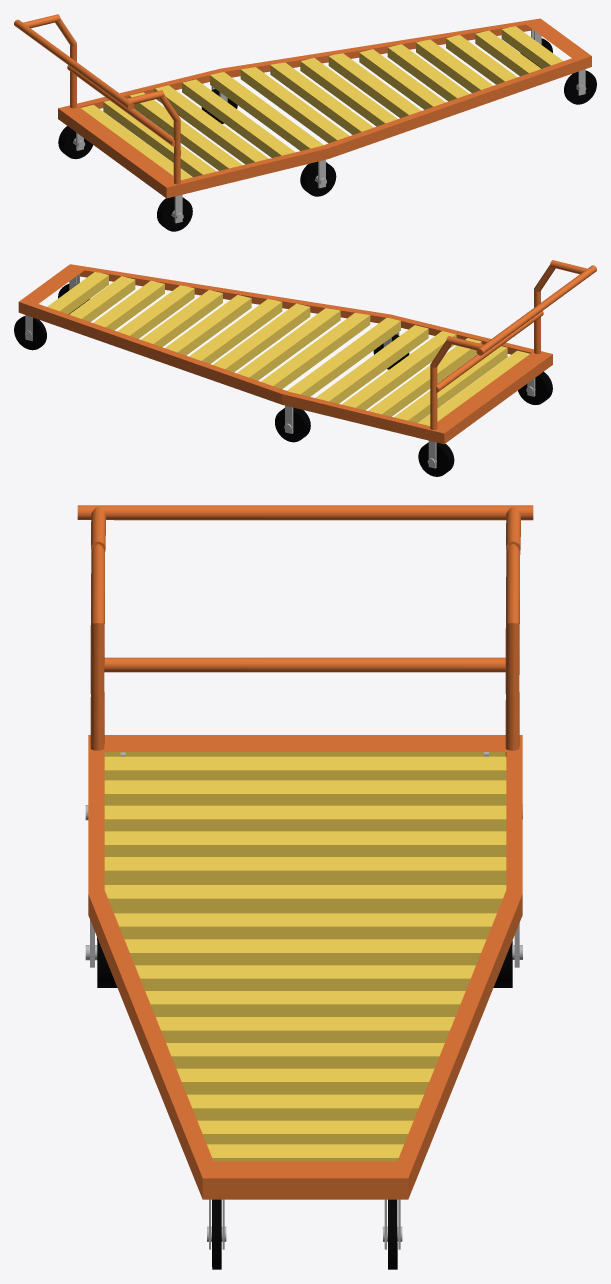
File: Flat_Cart_Joined.fbx
3 views of the same model, one above another, from view 1: azimuth 30°, elevation 25°; view 2: azimuth 150°, elevation 25°; view 3: azimuth 270°, elevation 25° (orthographic). The views are drawn at different scales.
Parts seen in each view (by area): view 1: Body, WheelBackR, WheelMidR, WheelFrontR, WheelBackL; view 2: Body, WheelBackL, WheelMidL, WheelFrontL, WheelBackR; view 3: Body.
Boxes of the visible parts, x1,y1,x2,y2 form: Body: [14, 14, 591, 223]; WheelBackR: [157, 196, 192, 231]; WheelMidR: [300, 161, 336, 196]; WheelFrontR: [564, 70, 596, 104]; WheelBackL: [58, 126, 92, 159]; Body: [18, 260, 596, 468]; WheelBackL: [418, 442, 454, 476]; WheelMidL: [275, 407, 310, 442]; WheelFrontL: [14, 316, 46, 350]; WheelBackR: [518, 371, 552, 404]; Body: [77, 505, 533, 1249].
Size of the model in its own units: 9.52 by 2.61 by 3.74.
